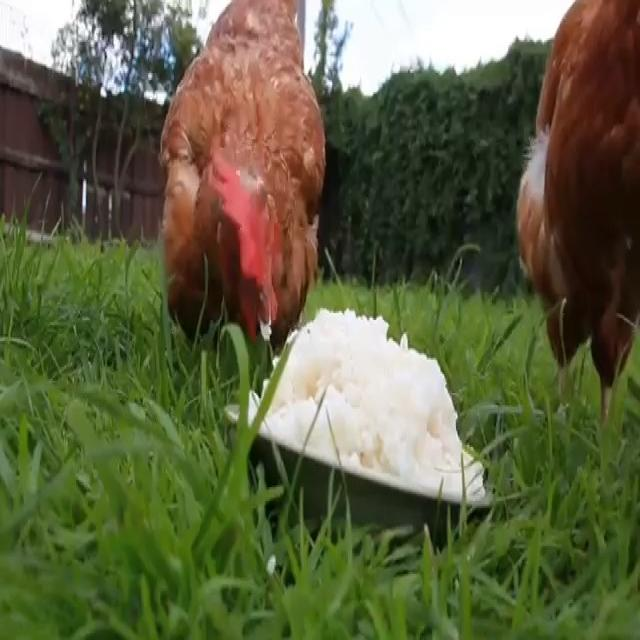feeding: (163, 0, 332, 363)
